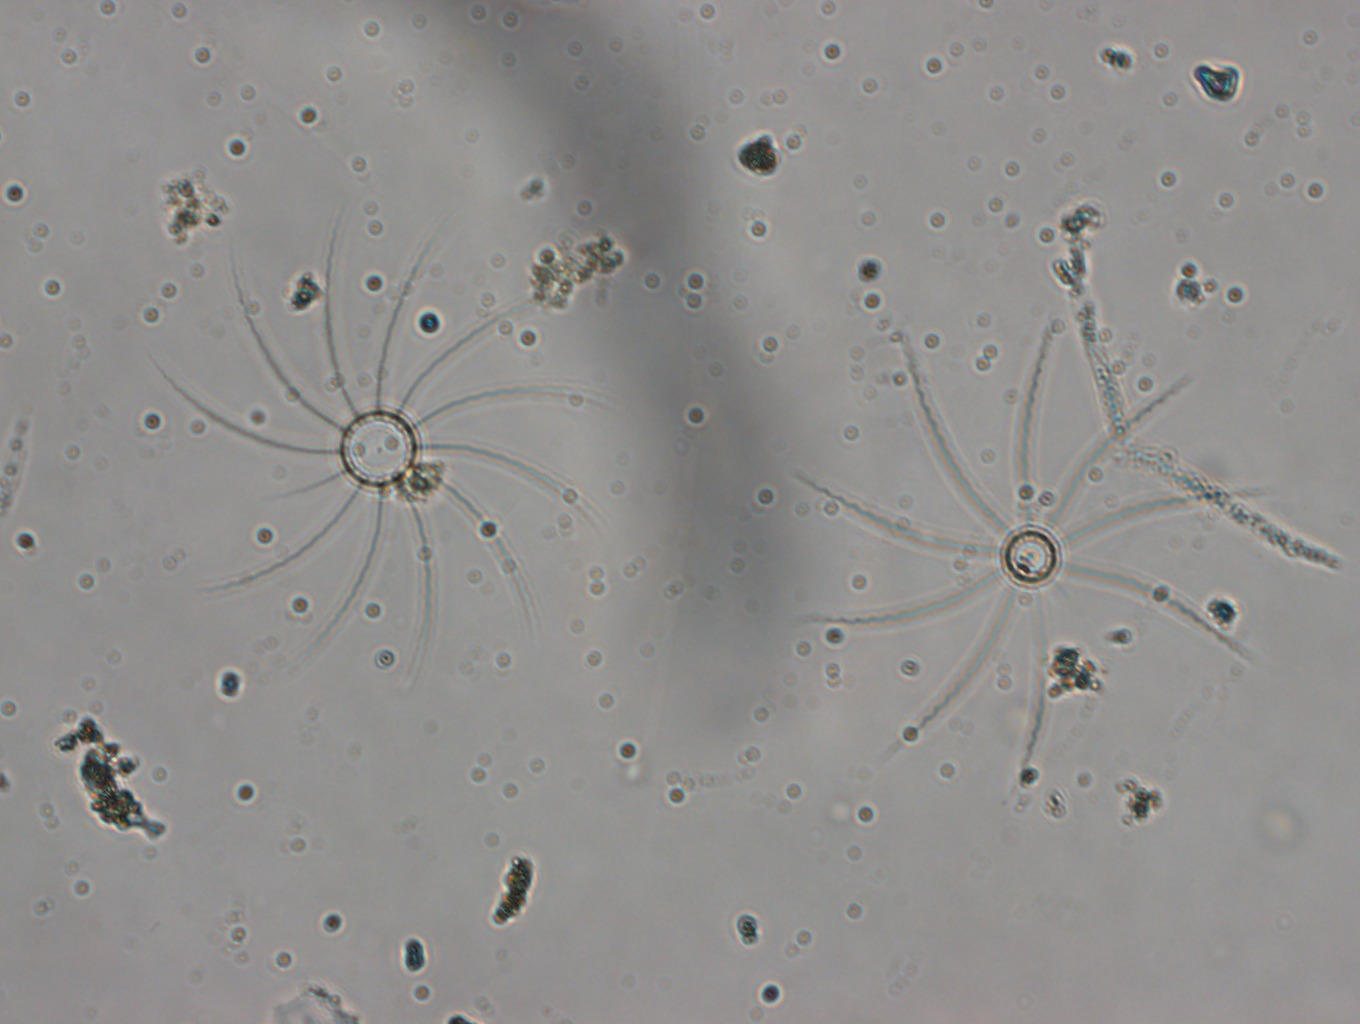bacteriastrum: (793, 310, 1278, 783), (146, 202, 611, 689)
